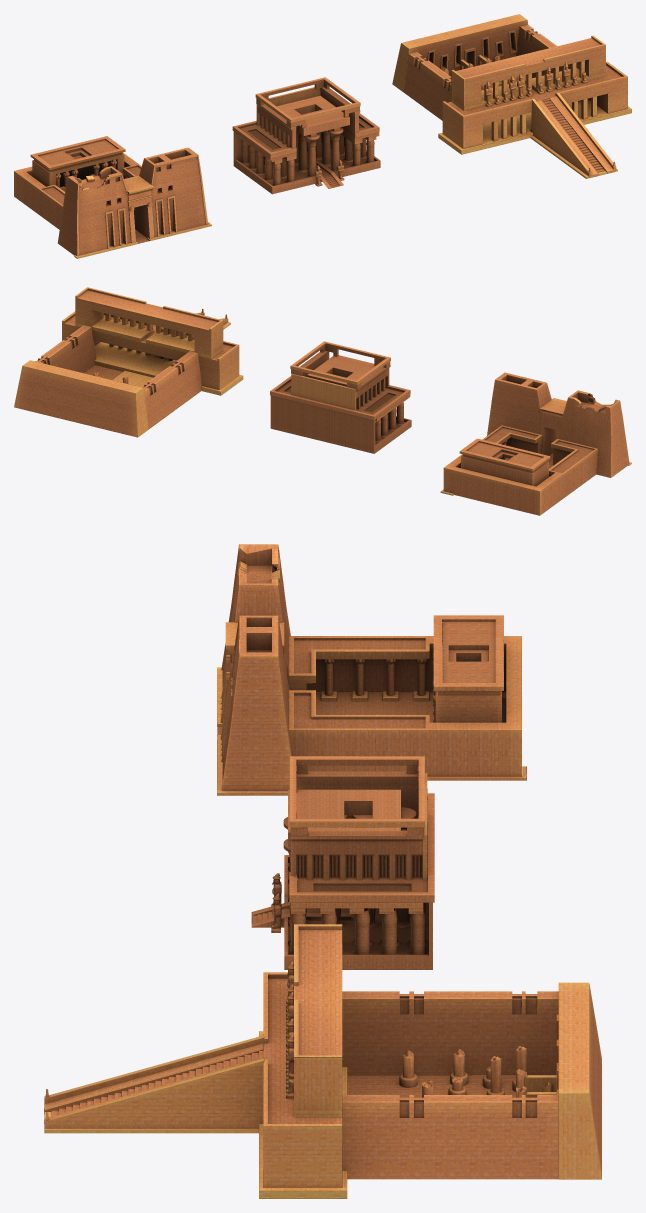
3 renders of one model, top to bottom at view 1: azimuth 30°, elevation 25°; view 2: azimuth 150°, elevation 25°; view 3: azimuth 270°, elevation 25°, orthographic. The views are drawn at different scales.
Parts seen in each view (by area): view 1: Cube.012, Plane.001, Cube; view 2: Cube.012, Plane.001, Cube; view 3: Cube.012, Plane.001, Cube.
Boxes of the visible parts, box(x1,y1,x2,y2) form: Cube.012: box(392, 14, 631, 178); Plane.001: box(14, 136, 211, 258); Cube: box(232, 77, 380, 194); Cube.012: box(14, 287, 243, 437); Plane.001: box(440, 372, 631, 515); Cube: box(270, 341, 411, 453); Cube.012: box(44, 924, 601, 1198); Plane.001: box(217, 544, 526, 795); Cube: box(251, 756, 434, 969).
Size of the model in its own units: 4668 by 545 by 2083.
Materials: 3 (3 with a texture image).
